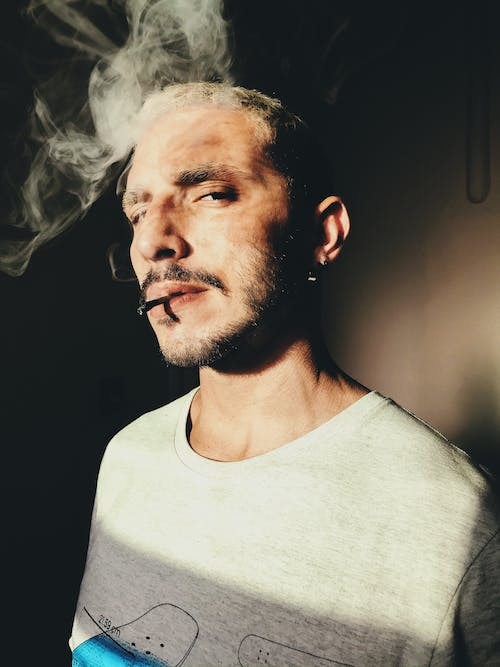cigarette: (136, 292, 174, 316)
